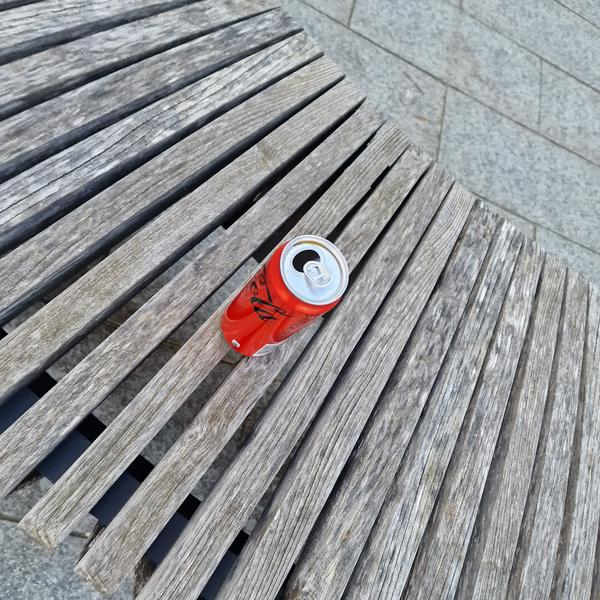can: (205, 219, 366, 380)
